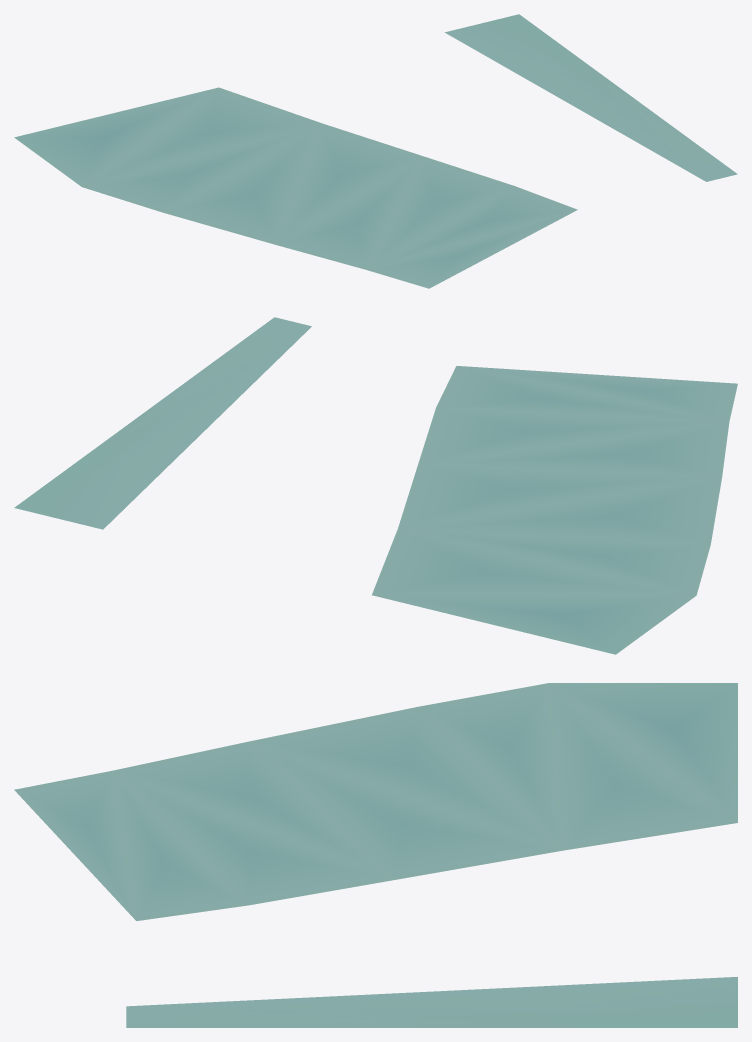
File: water-24-1.glb
3 renders of one model, top to bottom at view 1: azimuth 30°, elevation 25°; view 2: azimuth 150°, elevation 25°; view 3: azimuth 270°, elevation 25°, orthographic. The views are drawn at different scales.
Bounding box in the file's own units: 16 × 0 × 14.2.
